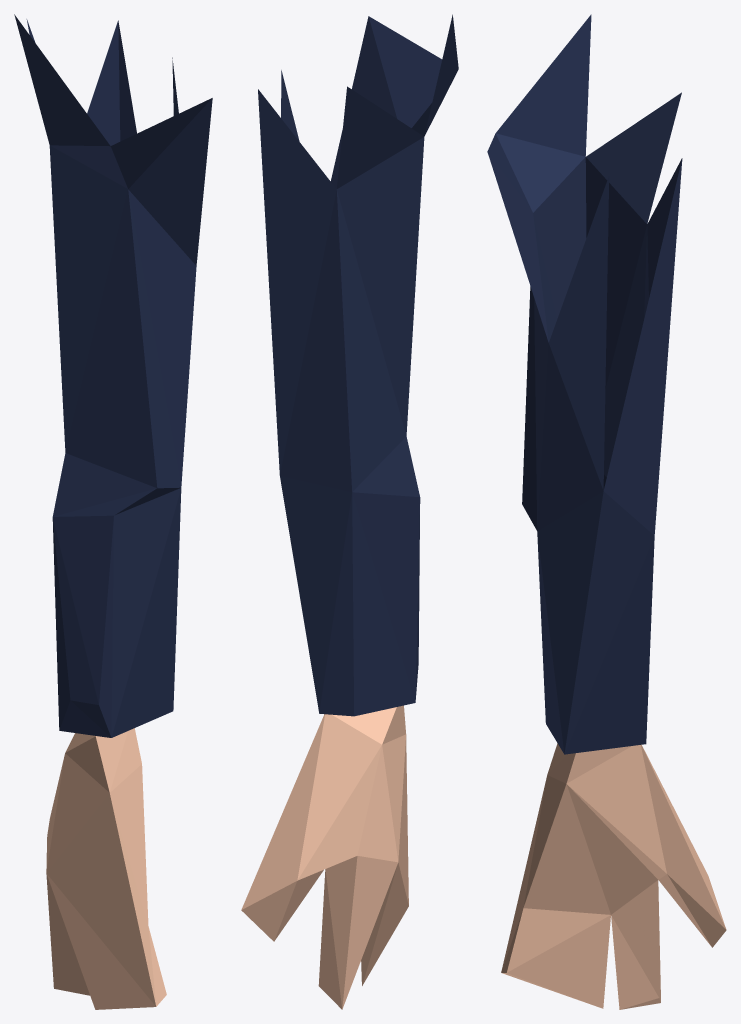
The model's file is ArmL_Lo.obj.
The picture shows the model from 3 angles, left to right: view 1: azimuth 30°, elevation 25°; view 2: azimuth 150°, elevation 25°; view 3: azimuth 270°, elevation 25°; orthographic projection. The views are drawn at different scales.
Size of the model in its own units: 0.1574 by 0.8916 by 0.2025.
Materials: 1 (1 with a texture image).
